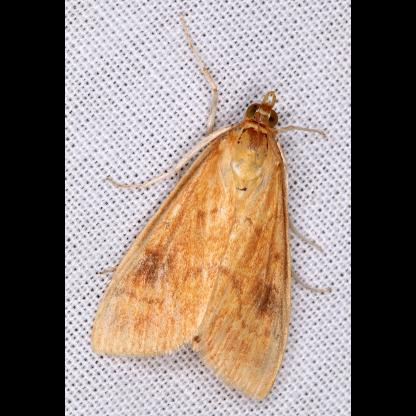Asian Corn Borer Moth: (88, 8, 336, 406)
